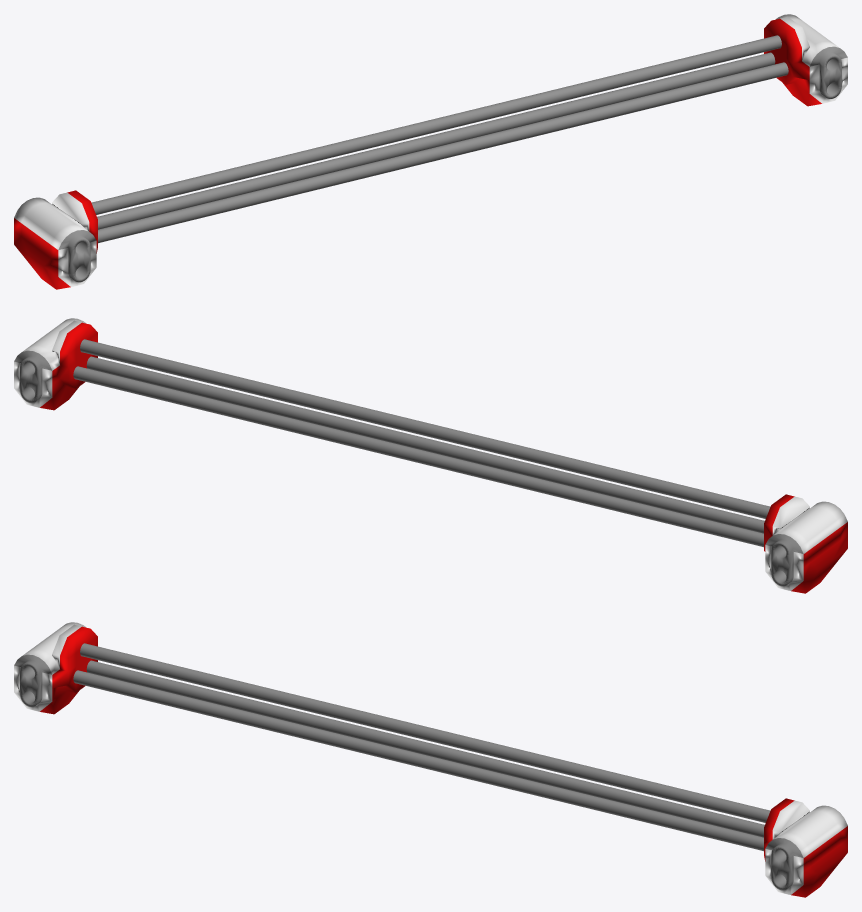
The model's file is crtane_Z_axis_movement_rail.fbx.
3 renders of one model, top to bottom at view 1: azimuth 30°, elevation 25°; view 2: azimuth 150°, elevation 25°; view 3: azimuth 330°, elevation 25°, orthographic.
Visible parts, largest first — view 1: Crane_Z_Axis_Movement_Rail; view 2: Crane_Z_Axis_Movement_Rail; view 3: Crane_Z_Axis_Movement_Rail.
Part boxes in pixels (x1,y1,x2,y2): Crane_Z_Axis_Movement_Rail: [14, 14, 847, 289]; Crane_Z_Axis_Movement_Rail: [14, 318, 847, 593]; Crane_Z_Axis_Movement_Rail: [14, 622, 847, 897].
Bounding box in the file's own units: 10.31 × 1 × 1.17.
